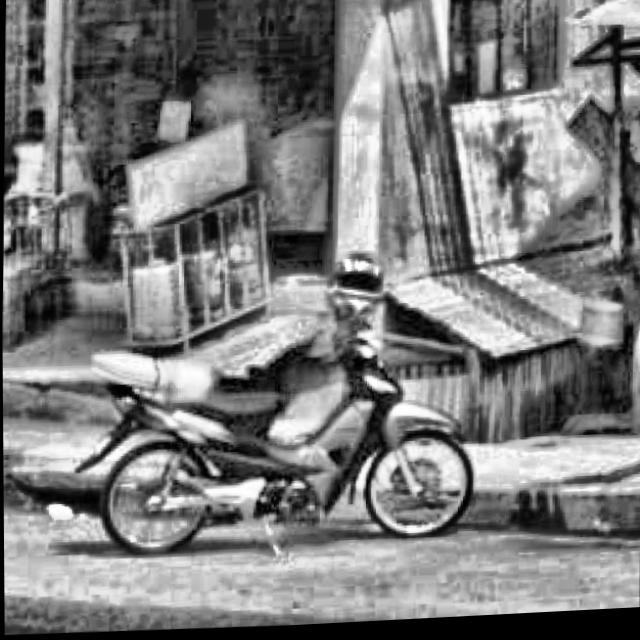motorcycle: (79, 223, 472, 574)
